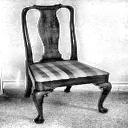chair_success: (13, 2, 121, 126)
